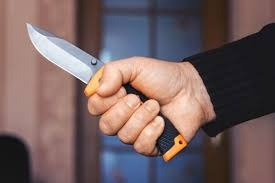knife: (26, 23, 189, 161)
